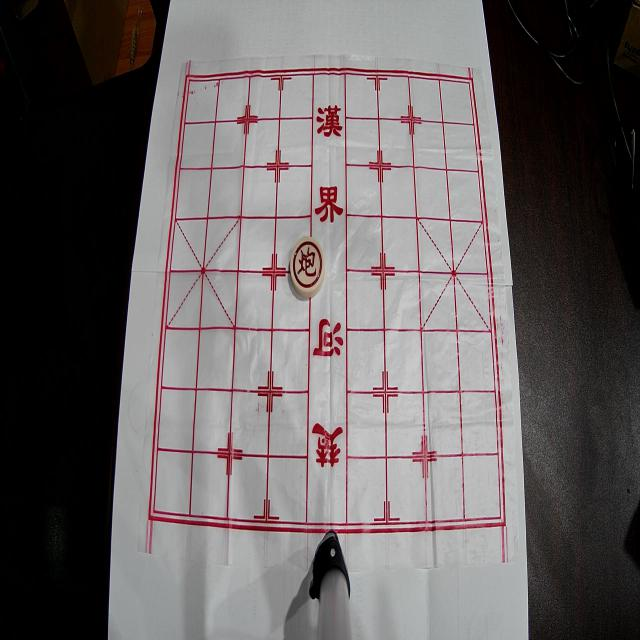red-cannon: (290, 237, 325, 298)
